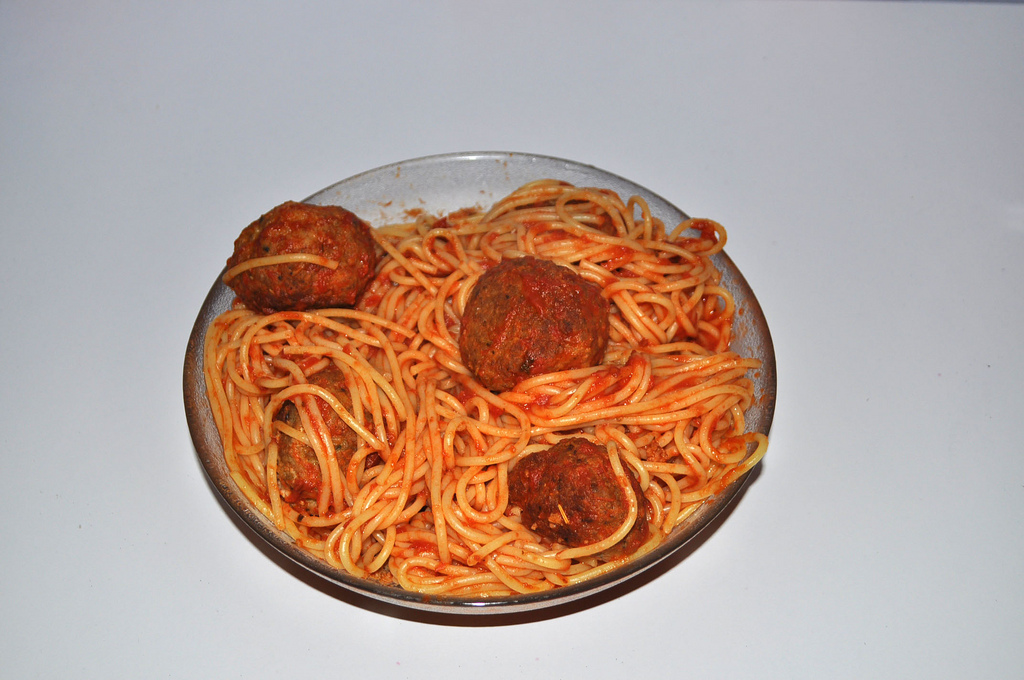meatballs: (516, 429, 680, 554), (468, 253, 620, 383), (223, 197, 377, 298)
plain spaghetti: (252, 245, 723, 563)
